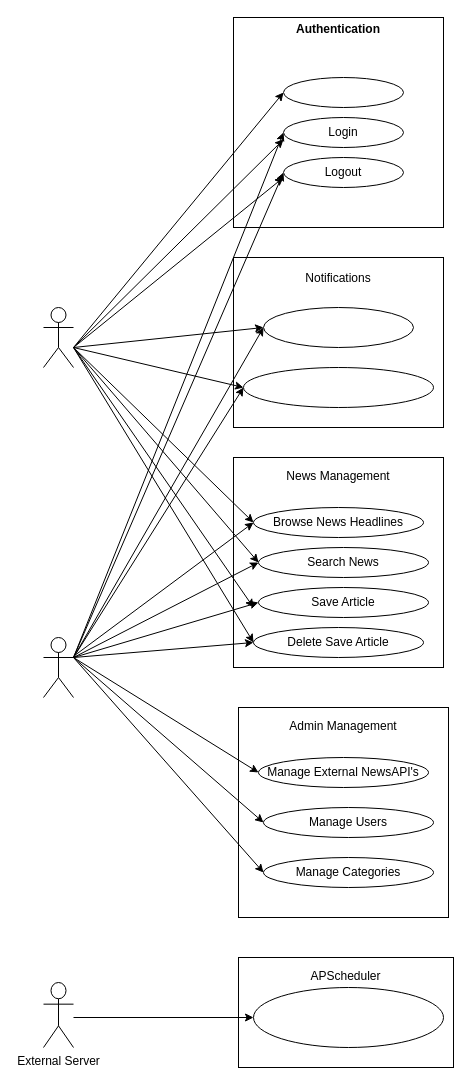
Some shapes in this 471 by 1086 pixel diagram are drawn without their labels. The centre of each missing label's shape, as x and y in pixels:
"Admin" belongs at (58,667).
"Configure Notifications" belongs at (338,327).
"Email Notifications" belongs at (338,387).
"Fetching News from newsAPI" belongs at (348,1017).
"Register" belongs at (343,92).
"User" belongs at (58,337).
